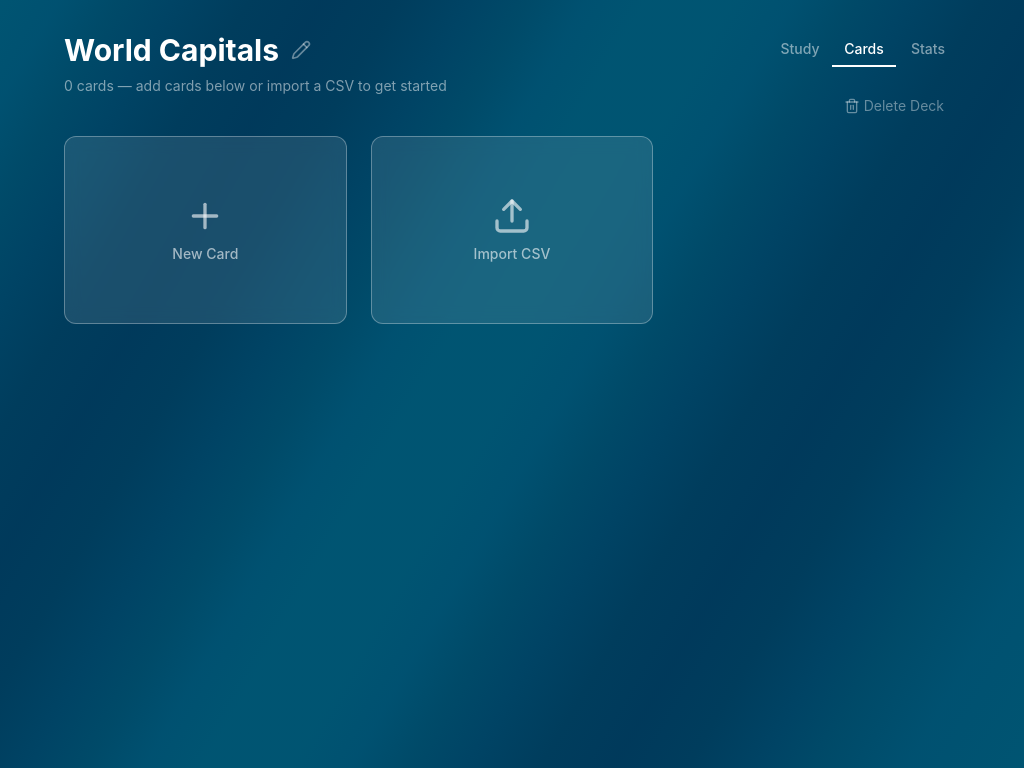
DeckCardsPage › shows New Card button that opens creation form with front input
Expected: the text "New Card" is shown, [172,244,238,264]
Click the button "New Card": (205, 224) [64,124,347,324]
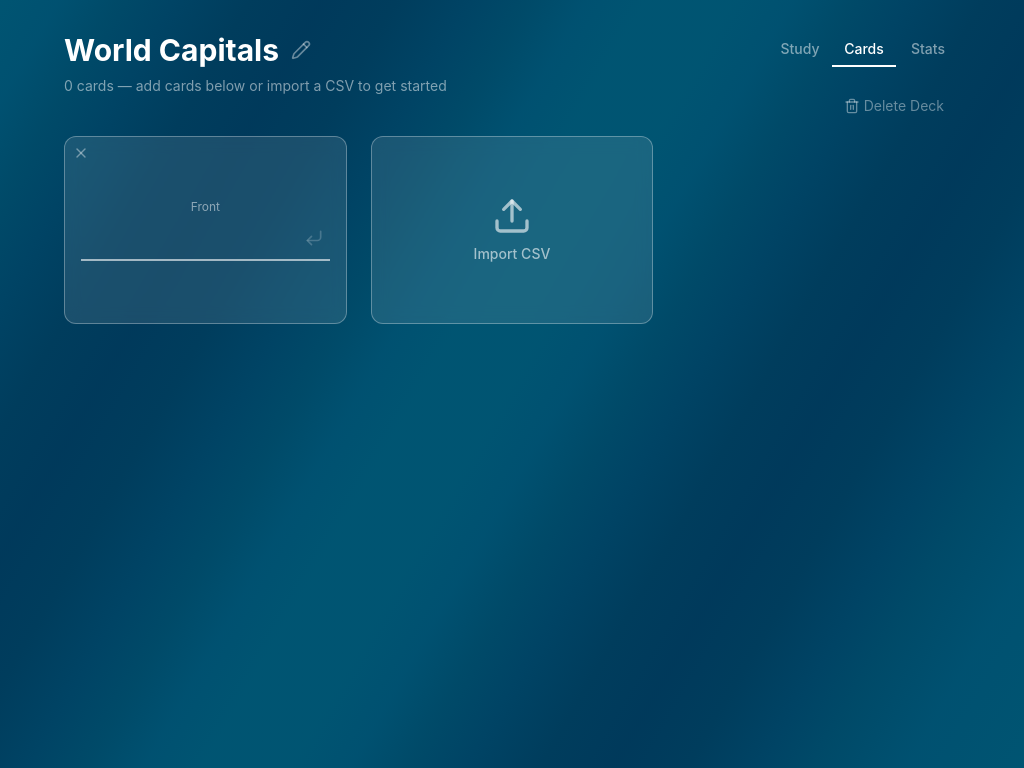
Expected: the button named "flip to back" is shown, [298,222,330,254]
